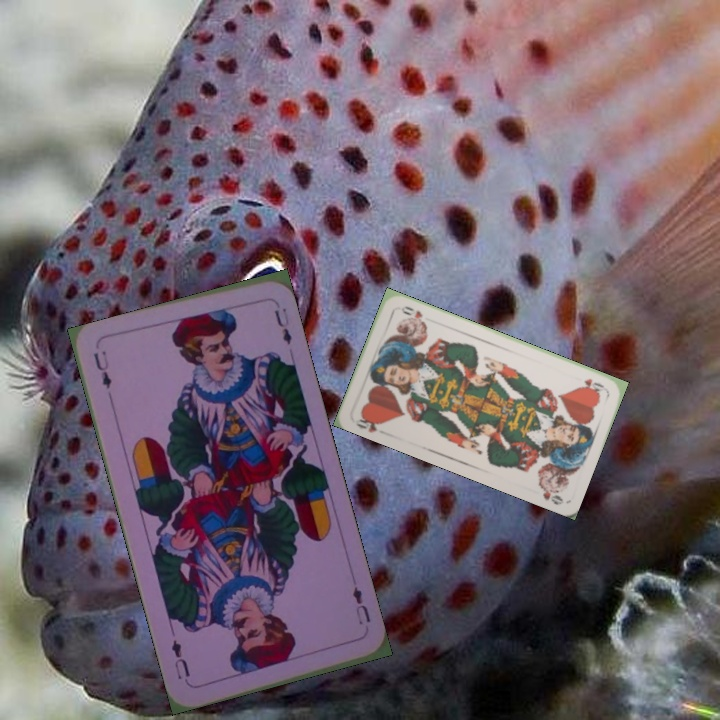EU: (89, 346, 115, 391), (348, 583, 373, 627)
HO: (350, 411, 387, 435), (577, 374, 606, 394)
